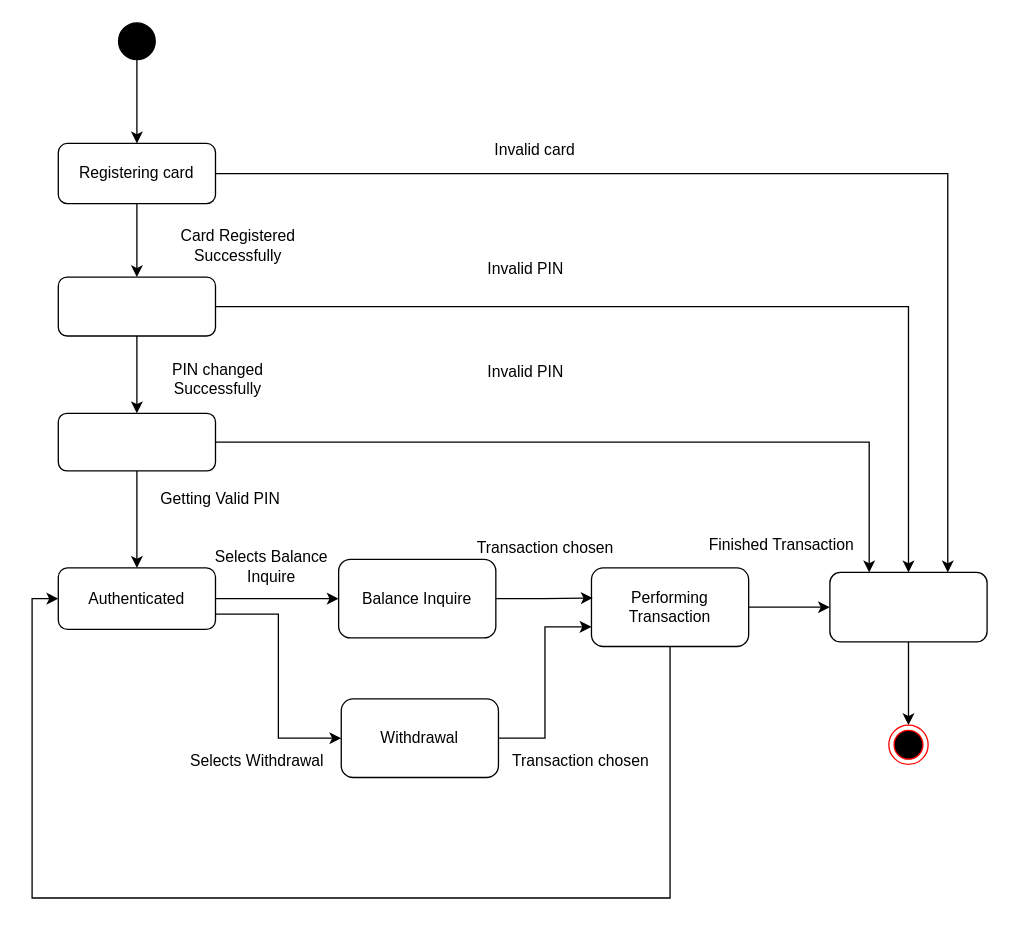
This 1010x931 diagram has some shape labels left out. The box of each missing label's shape, as (x1, y1, x2, y2) in pixels:
Eject card: (829, 571, 987, 642)
PIN change: (57, 276, 215, 336)
Reading PIN: (57, 412, 215, 471)
